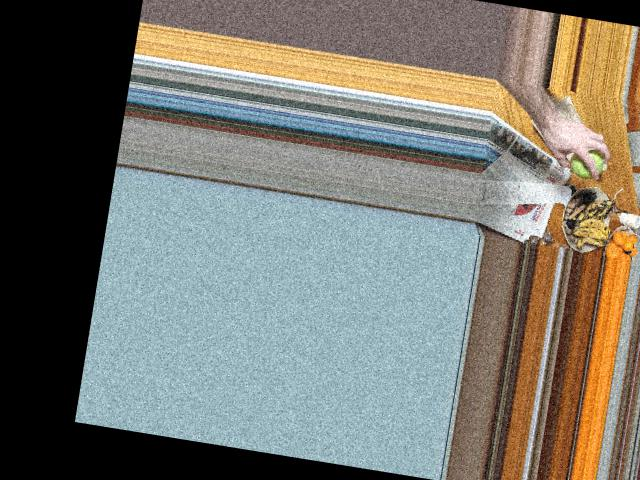apple: (565, 142, 607, 180)
